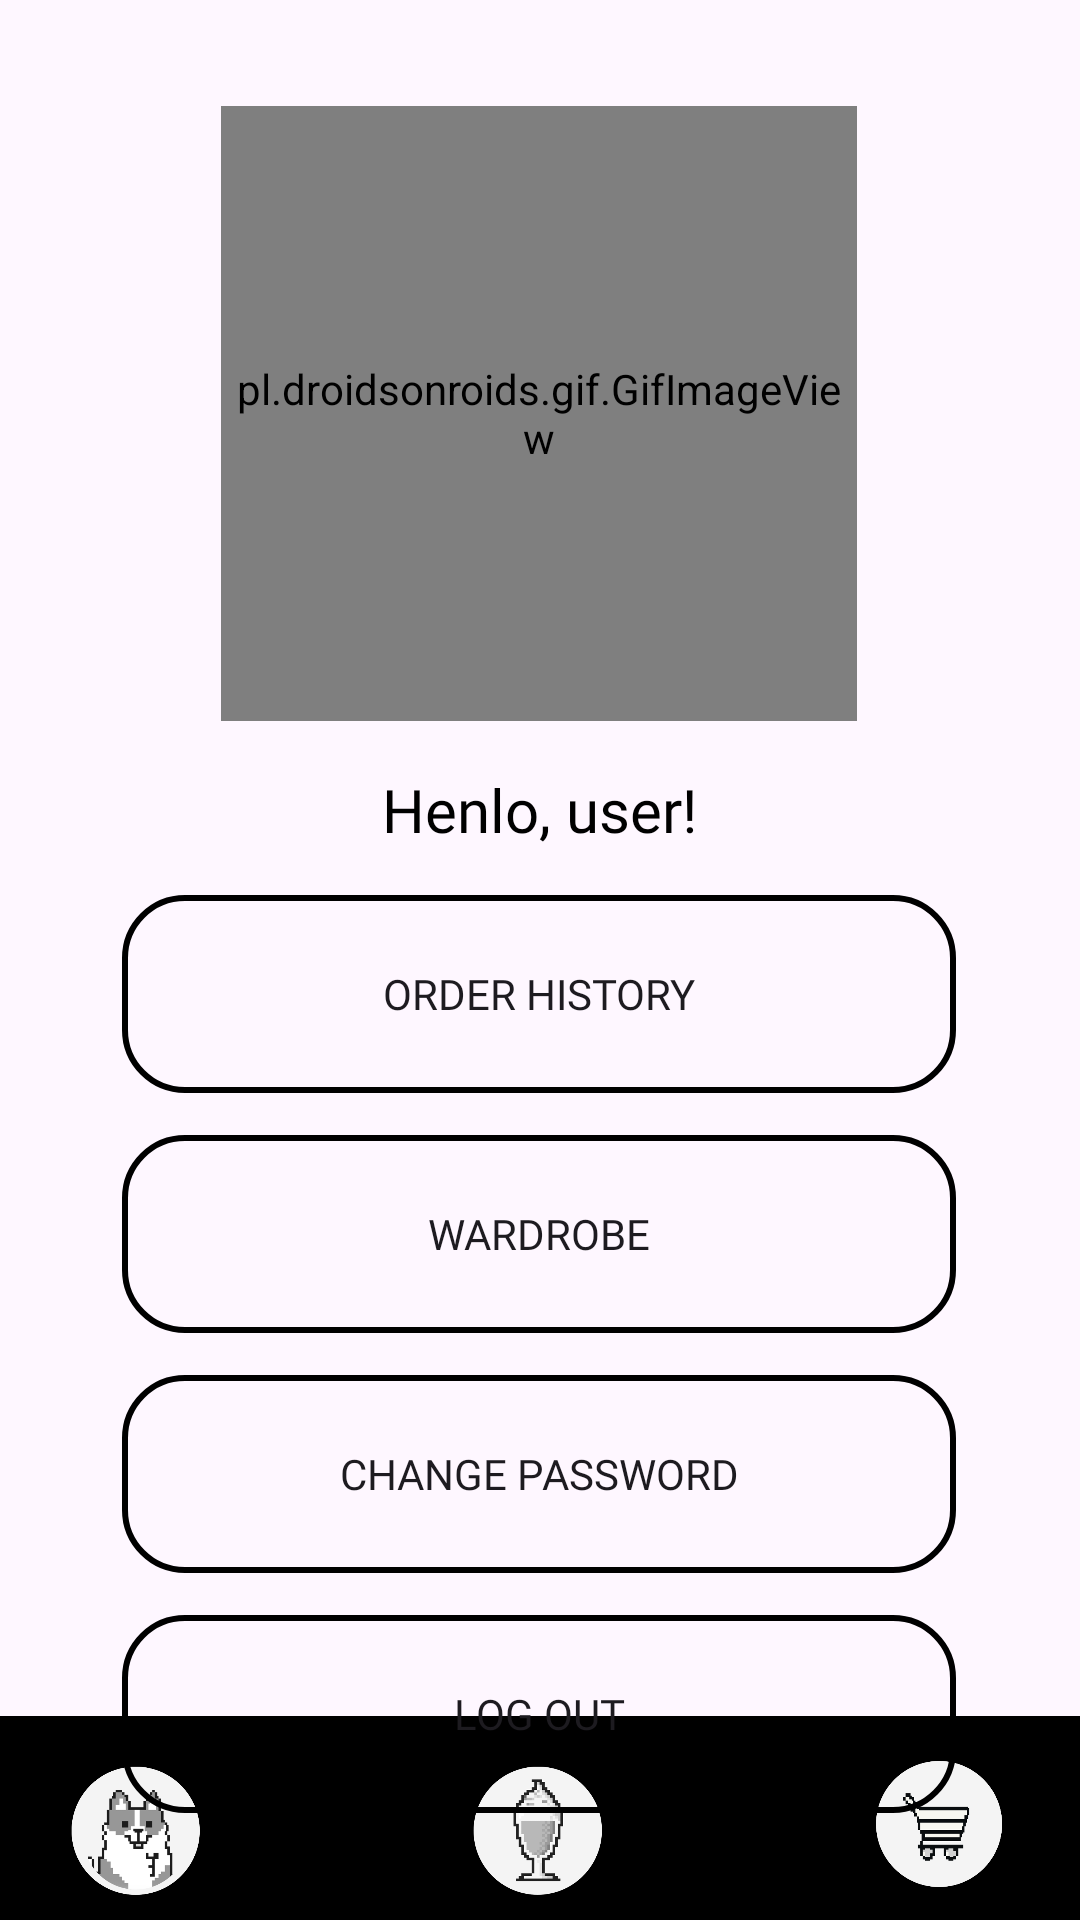

Icons on this 1080*1920 Android screen, each with its box as [x1, y1, x2, y2]:
basket: [876, 1761, 1002, 1887]
icecream: [473, 1766, 602, 1895]
